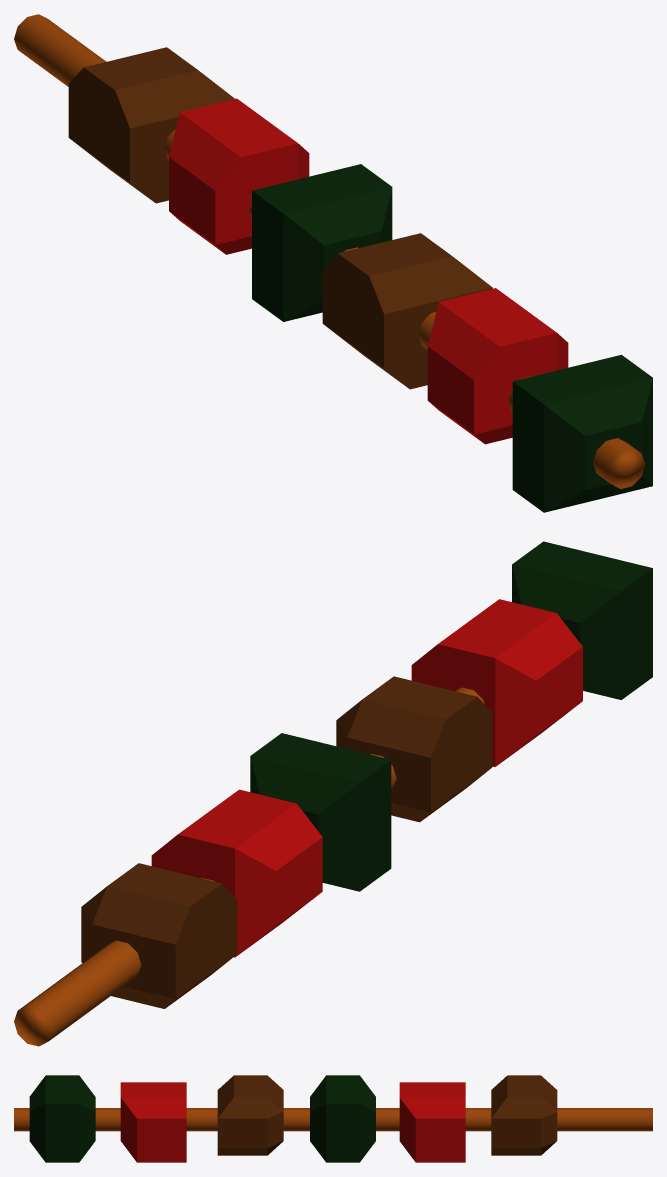
The model's file is BBQ Kebab.fbx.
The picture shows the model from 3 angles, top to bottom: view 1: azimuth 30°, elevation 25°; view 2: azimuth 150°, elevation 25°; view 3: azimuth 270°, elevation 25°; orthographic projection. The views are drawn at different scales.
Visible parts, largest first — view 1: pasted__polySurface268; view 2: pasted__polySurface268; view 3: pasted__polySurface268.
Boxes of the visible parts, bbox=[...] form: pasted__polySurface268: bbox=[14, 14, 652, 512]; pasted__polySurface268: bbox=[14, 541, 652, 1046]; pasted__polySurface268: bbox=[14, 1075, 652, 1162].
Bounding box in the file's own units: 0.0809 × 0.0769 × 0.7623.
